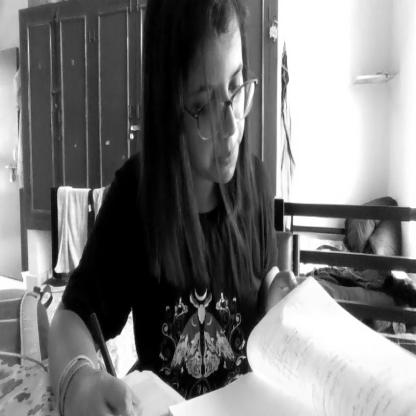Distracted: (149, 0, 250, 193)
